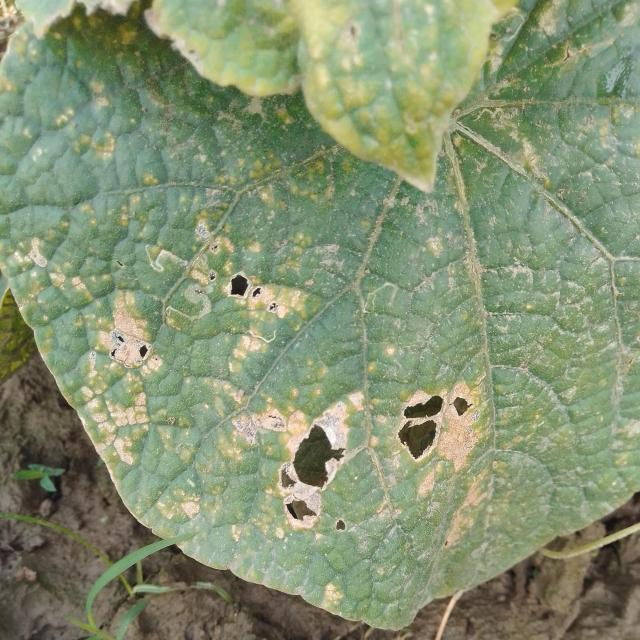cucumber_anthracnose: (91, 37, 640, 545)
